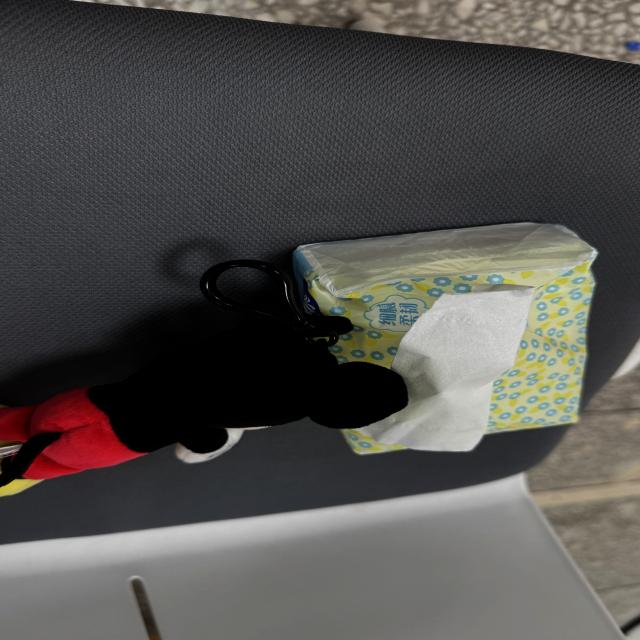mickey: (0, 319, 407, 486)
tissue: (291, 220, 599, 455)
